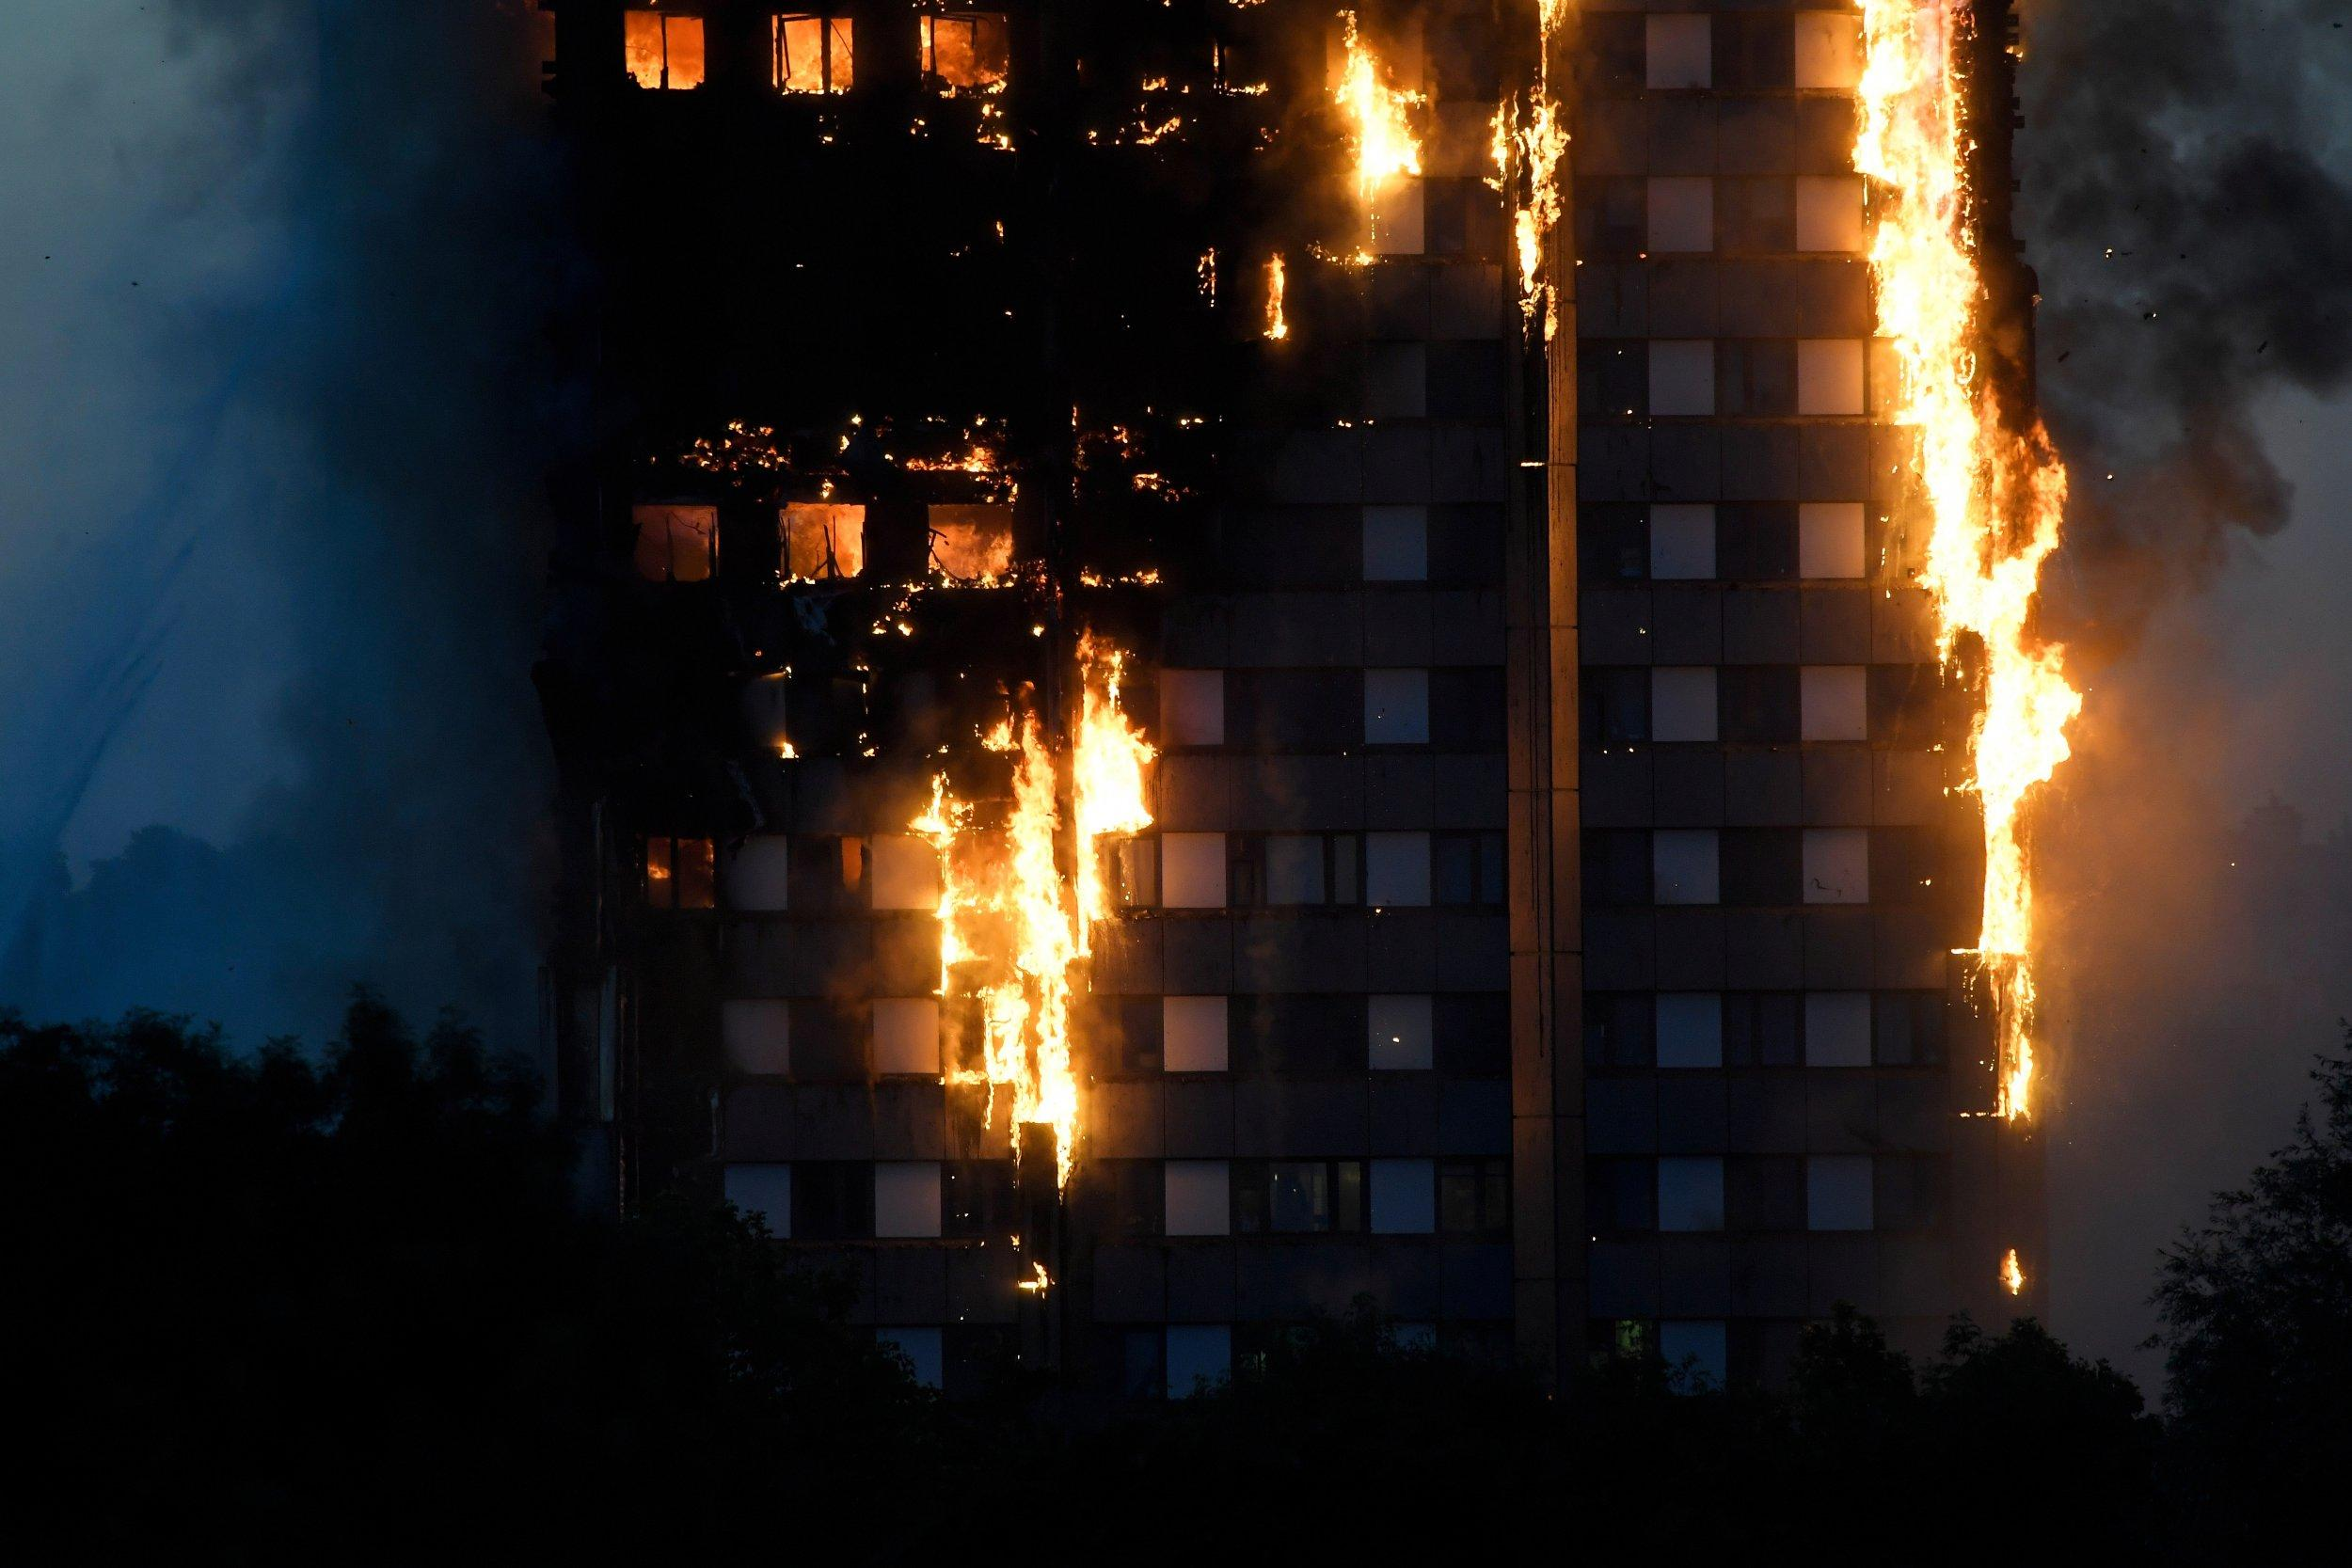Fire: (684, 2, 1185, 1244), (1864, 2, 2173, 1169), (1262, 2, 1603, 413)
